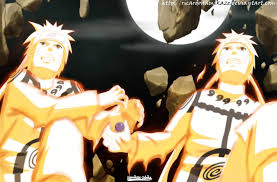Naruto: (26, 22, 71, 81), (215, 31, 259, 83)
